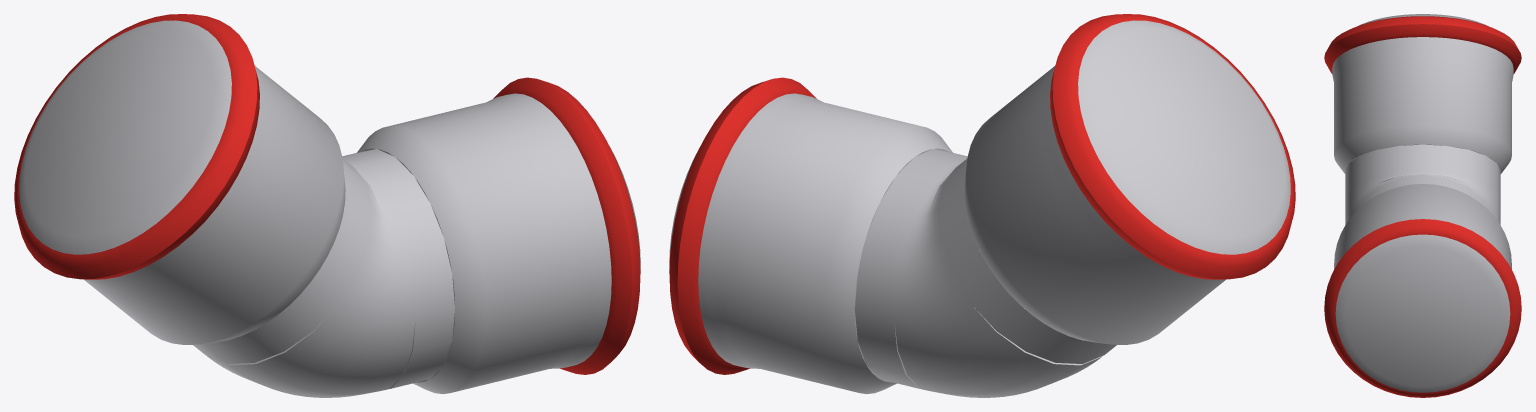
Rendered from fitting_e45_35_r.glb.
3 views of the same model, side by side, from view 1: azimuth 30°, elevation 25°; view 2: azimuth 150°, elevation 25°; view 3: azimuth 270°, elevation 25° (orthographic). The views are drawn at different scales.
Visible parts, largest first — view 1: раструб.001, раструб, изгиб, кольцо пресс.001, корпус, кольцо пресс, корпус.001; view 2: раструб.001, раструб, изгиб, кольцо пресс.001, корпус, кольцо пресс, корпус.001; view 3: раструб, раструб.001, кольцо пресс, корпус.001, кольцо пресс.001, изгиб, корпус.
Boxes of the visible parts, box(x1,y1,x2,y2) form: раструб.001: box(19, 20, 345, 344); раструб: box(357, 93, 640, 394); изгиб: box(207, 163, 415, 397); кольцо пресс.001: box(14, 14, 259, 279); корпус: box(342, 149, 455, 388); кольцо пресс: box(493, 77, 640, 374); корпус.001: box(193, 159, 372, 363); раструб.001: box(964, 20, 1290, 344); раструб: box(669, 93, 952, 394); изгиб: box(894, 163, 1102, 397); кольцо пресс.001: box(1050, 14, 1295, 279); корпус: box(854, 149, 967, 388); кольцо пресс: box(669, 77, 816, 374); корпус.001: box(937, 159, 1116, 363); раструб: box(1334, 184, 1511, 392); раструб.001: box(1332, 14, 1513, 173); кольцо пресс: box(1324, 219, 1521, 397); корпус.001: box(1345, 144, 1500, 197); кольцо пресс.001: box(1324, 16, 1521, 73); изгиб: box(1345, 172, 1500, 224); корпус: box(1356, 175, 1489, 211).
Bounding box in the file's own units: 0.0991 × 0.0738 × 0.0483.
